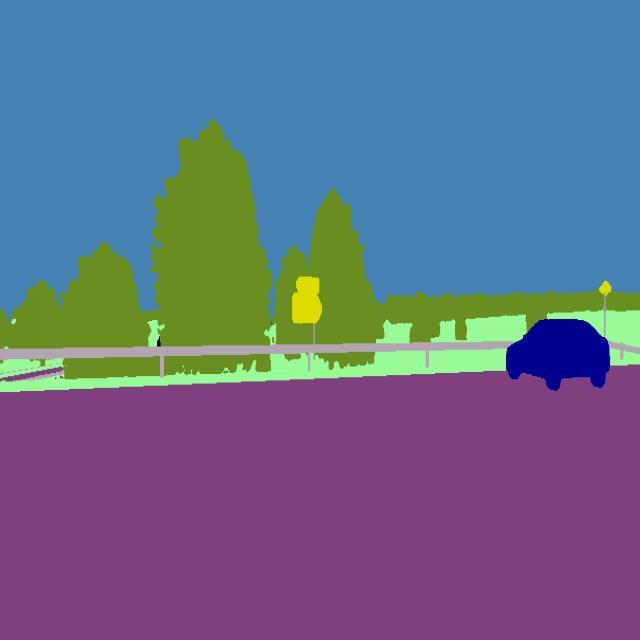safe: (505, 312, 610, 392)
